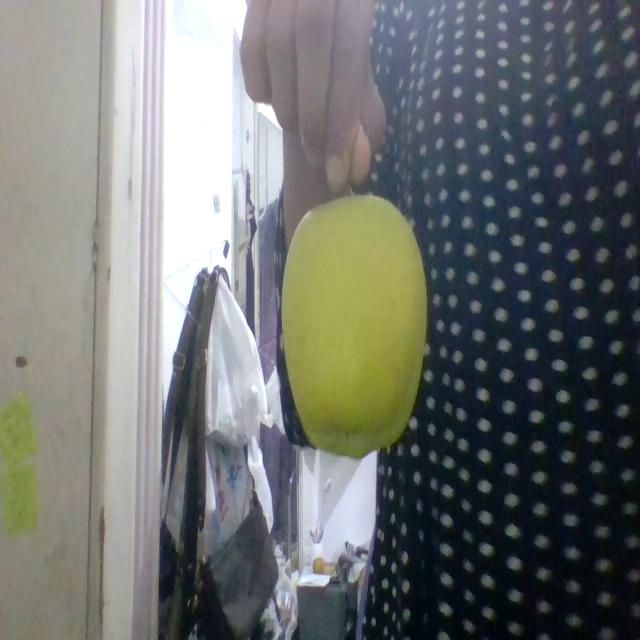50-_ripeness: (280, 192, 427, 459)
